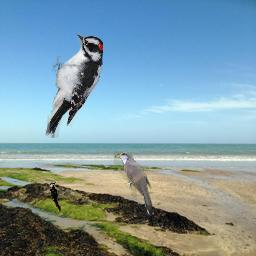Cuckoo: (114, 151, 155, 216)
Woodpecker: (44, 33, 103, 138), (48, 180, 63, 214)
